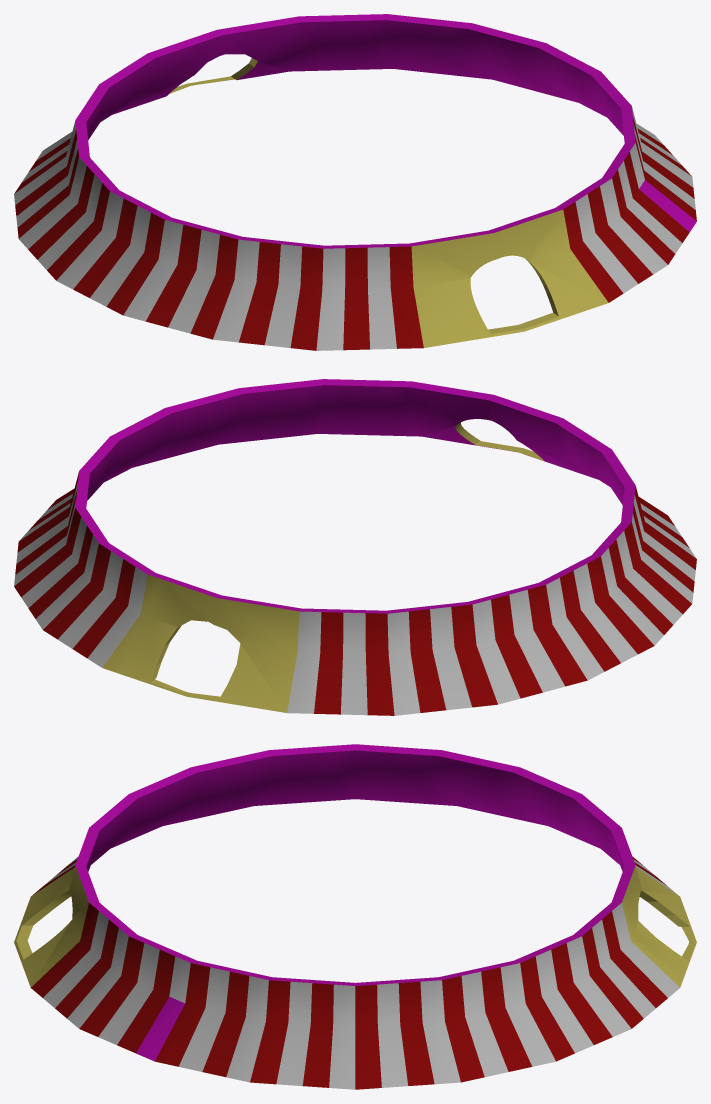
File: MAIN_TENT6666.fbx
3 renders of one model, top to bottom at view 1: azimuth 30°, elevation 25°; view 2: azimuth 150°, elevation 25°; view 3: azimuth 270°, elevation 25°, orthographic.
Parts seen in each view (by area): view 1: TENTTT; view 2: TENTTT; view 3: TENTTT.
Boxes of the visible parts, x1,y1,x2,y2 form: TENTTT: (14,14,696,350); TENTTT: (14,379,696,715); TENTTT: (14,744,696,1089).
Bounding box in the file's own units: 7429 × 907 × 7272.
